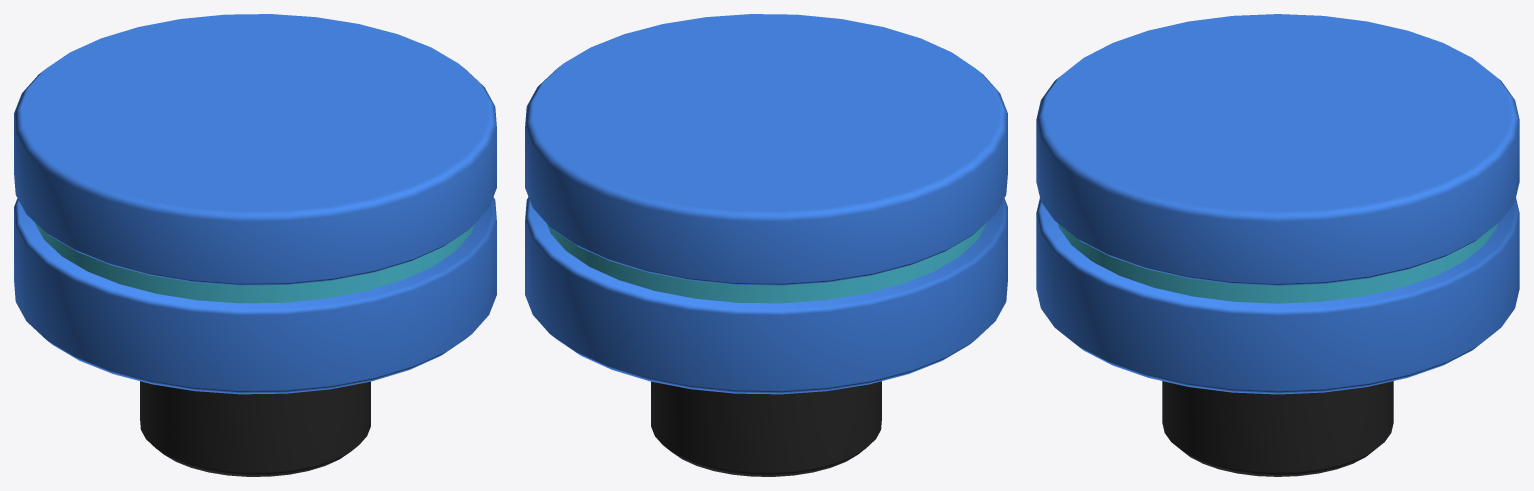
Rendered from cyllinder_001.fbx.
3 views of the same model, side by side, from view 1: azimuth 30°, elevation 25°; view 2: azimuth 150°, elevation 25°; view 3: azimuth 270°, elevation 25° (orthographic).
Parts seen in each view (by area): view 1: cyllinder_001; view 2: cyllinder_001; view 3: cyllinder_001.
Part boxes in pixels (bbox=[...]): cyllinder_001: bbox=[14, 14, 496, 476]; cyllinder_001: bbox=[525, 14, 1007, 476]; cyllinder_001: bbox=[1036, 14, 1519, 476].
Bounding box in the file's own units: 2564 × 2564 × 1870.
